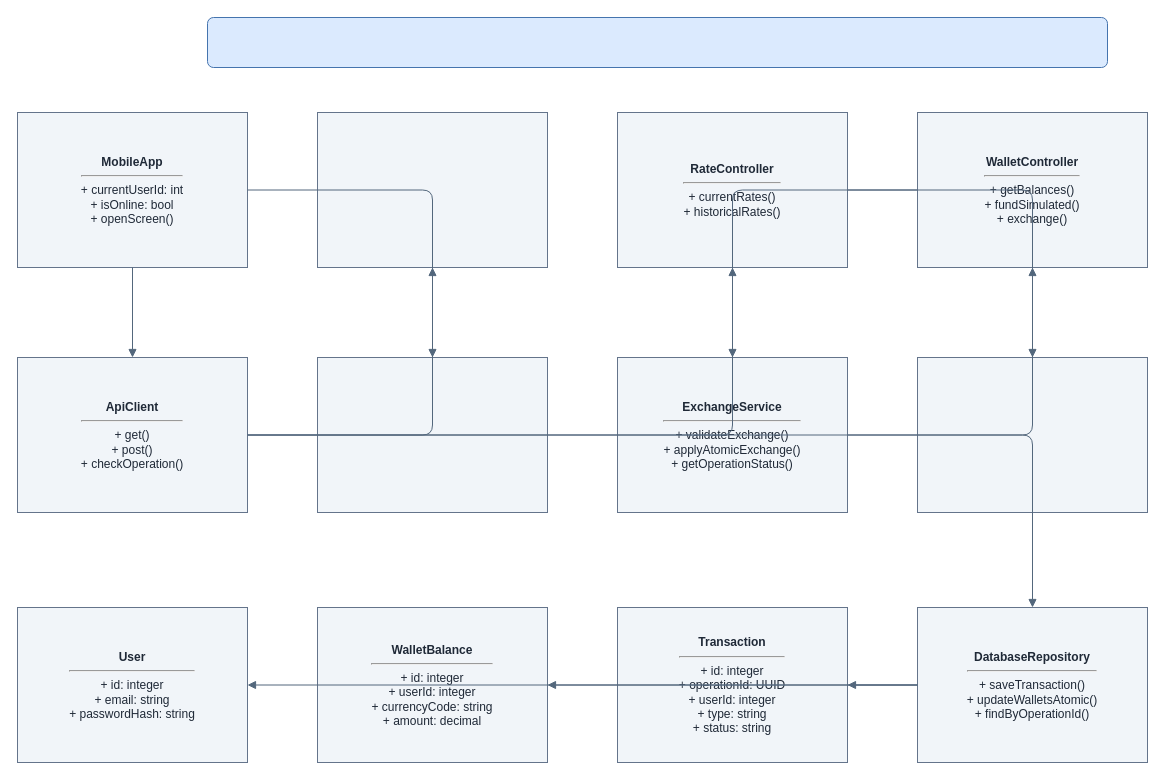
This 1165x780 diagram has some shape labels left out. The shapes that lost their labels are listed below. From the top down, each one's box as (x1, y1, x2, y2) in pixels, then its label:
(206, 16, 1108, 68): Mobile / Service Class Diagram
(316, 112, 548, 268): AuthController + register() + login() + authenticate()
(316, 356, 548, 512): CacheRepository + savedAt: datetime + saveReadData() + getCachedReadData()
(916, 356, 1148, 512): NBPClient + fetchCurrent() + fetchHistorical()
